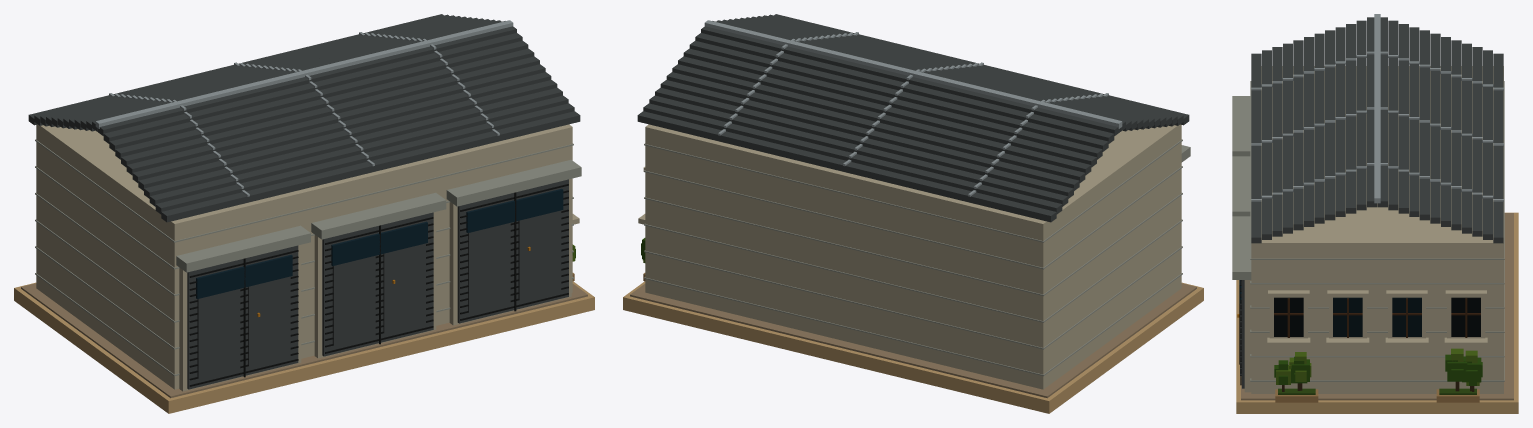
Rendered from SM_Mapa_036.fbx.
3 renders of one model, left to right at view 1: azimuth 30°, elevation 25°; view 2: azimuth 150°, elevation 25°; view 3: azimuth 270°, elevation 25°, orthographic. The views are drawn at different scales.
Parts seen in each view (by area): view 1: SM_Mapa_036; view 2: SM_Mapa_036; view 3: SM_Mapa_036.
Part boxes in pixels (x1=…): SM_Mapa_036: x1=14, y1=14, x2=594, y2=413; SM_Mapa_036: x1=623, y1=14, x2=1203, y2=413; SM_Mapa_036: x1=1232, y1=14, x2=1518, y2=413.
Bounding box in the file's own units: 45 × 28.38 × 23.29.
